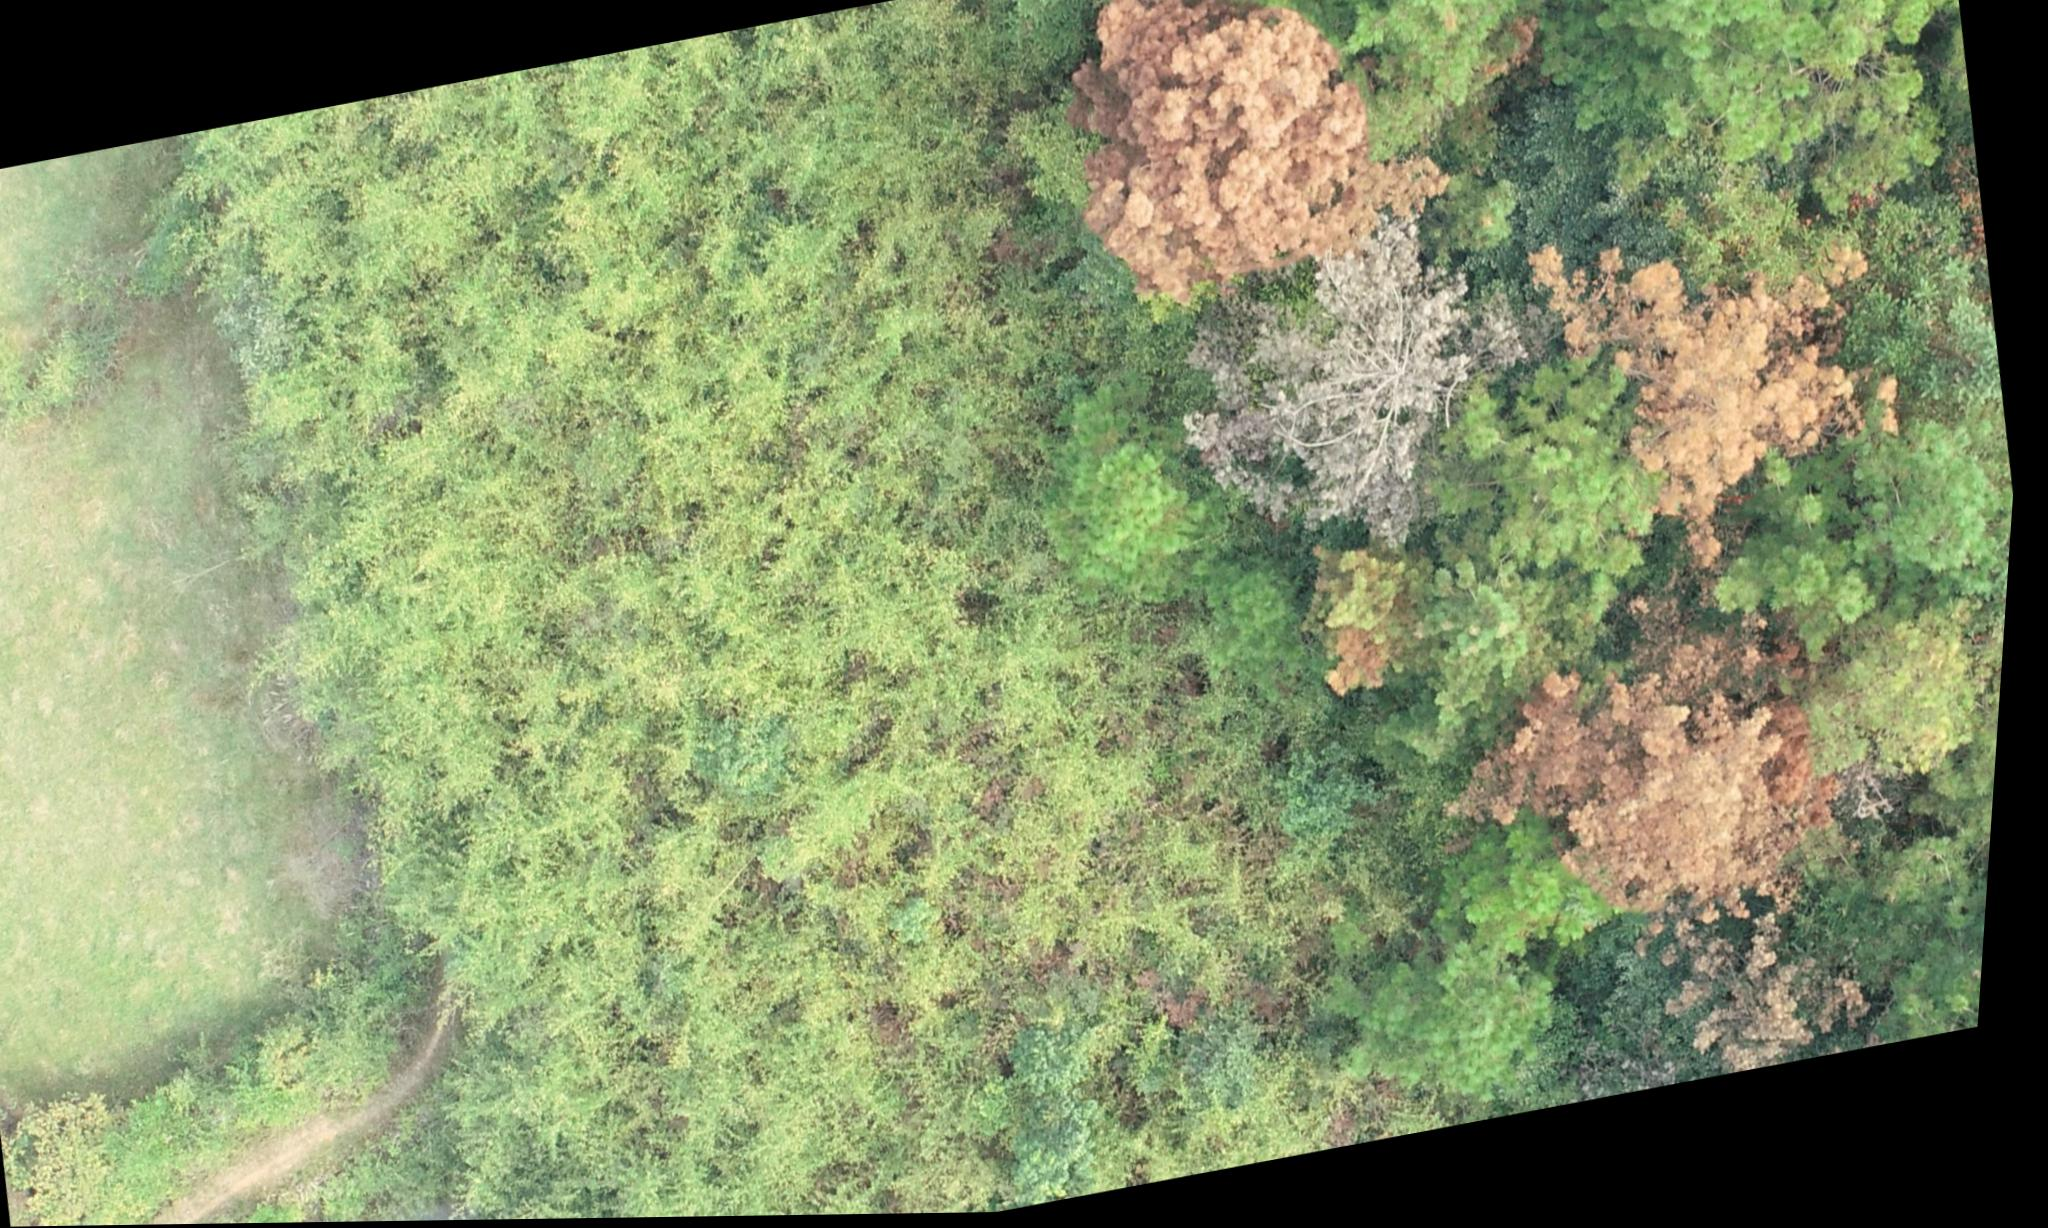dead: (1165, 243, 1532, 567)
heavy: (1516, 184, 1959, 585), (1501, 580, 1880, 939), (1044, 0, 1414, 304), (1666, 899, 1896, 1079)
light: (1285, 544, 1484, 712)
